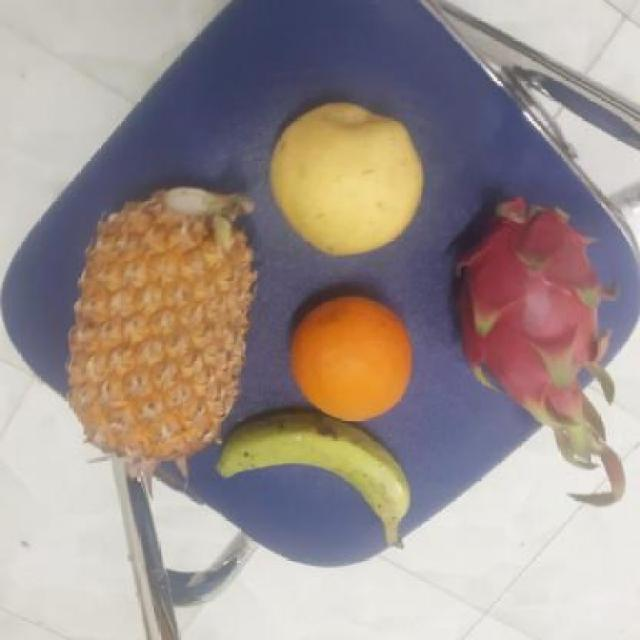banana: (210, 411, 404, 562)
dragon fruit: (440, 195, 614, 423)
oren: (284, 297, 414, 418)
pear: (258, 101, 420, 256)
pineapple: (61, 187, 257, 451)
